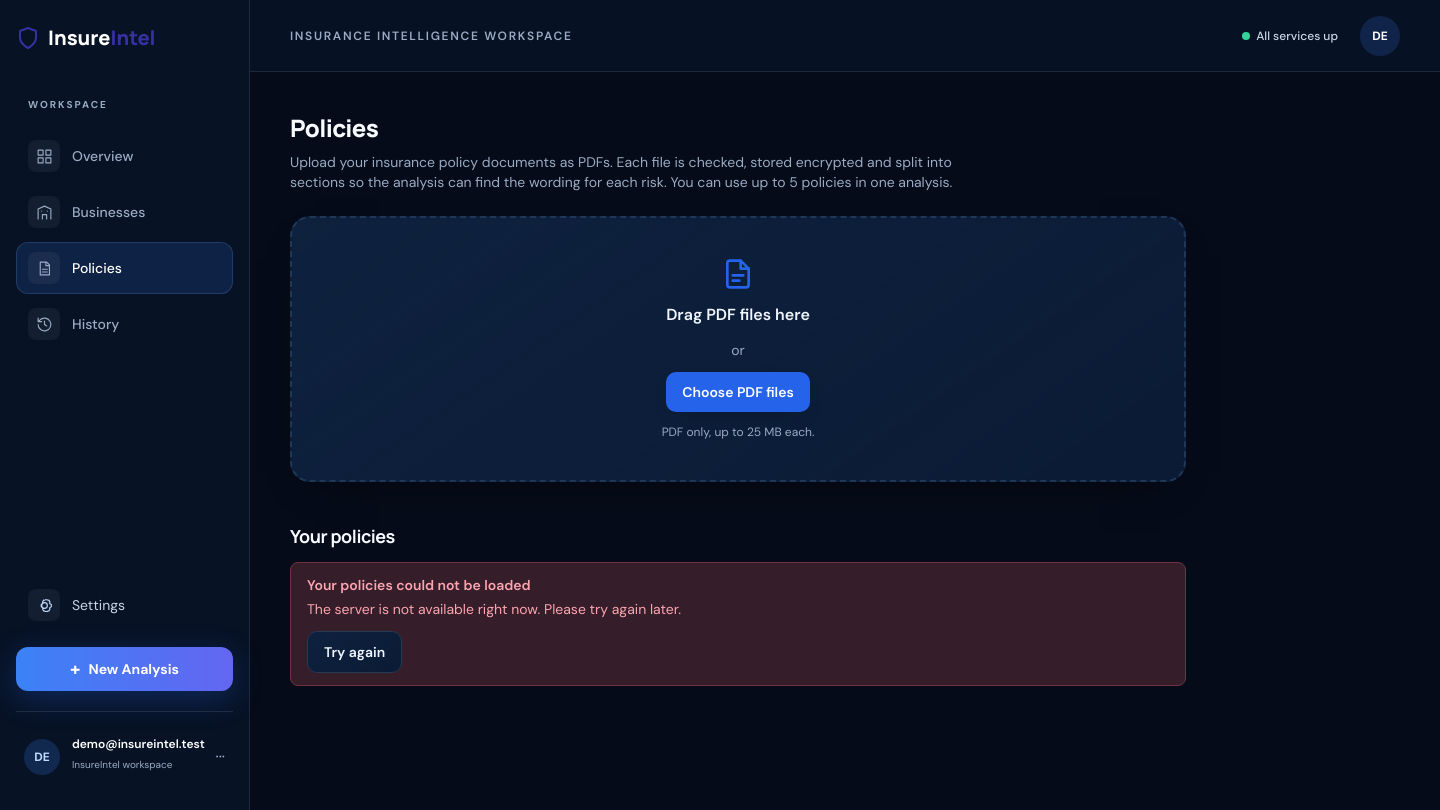
Test: policies page › shows an error with a retry when the list cannot be loaded
Expected: the heading "Policies" is shown, [290,111,378,144]
Expected: the text "Your policies could not be loaded" is shown, [307,576,531,594]
Click the button "Try again" at [355, 652], box [307,631,402,673]
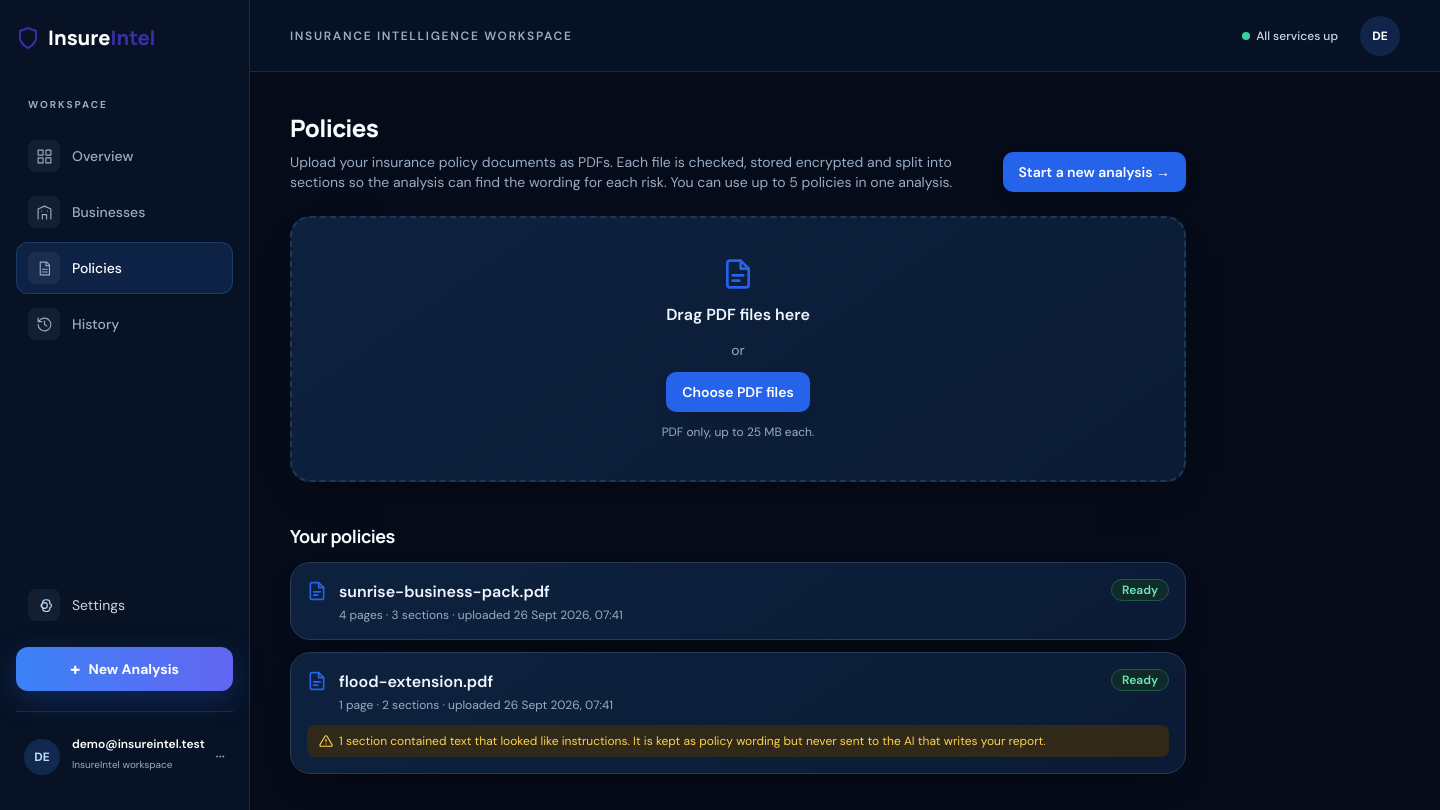
Result: the list named "Your policies" is shown at [290,562,1186,774]
